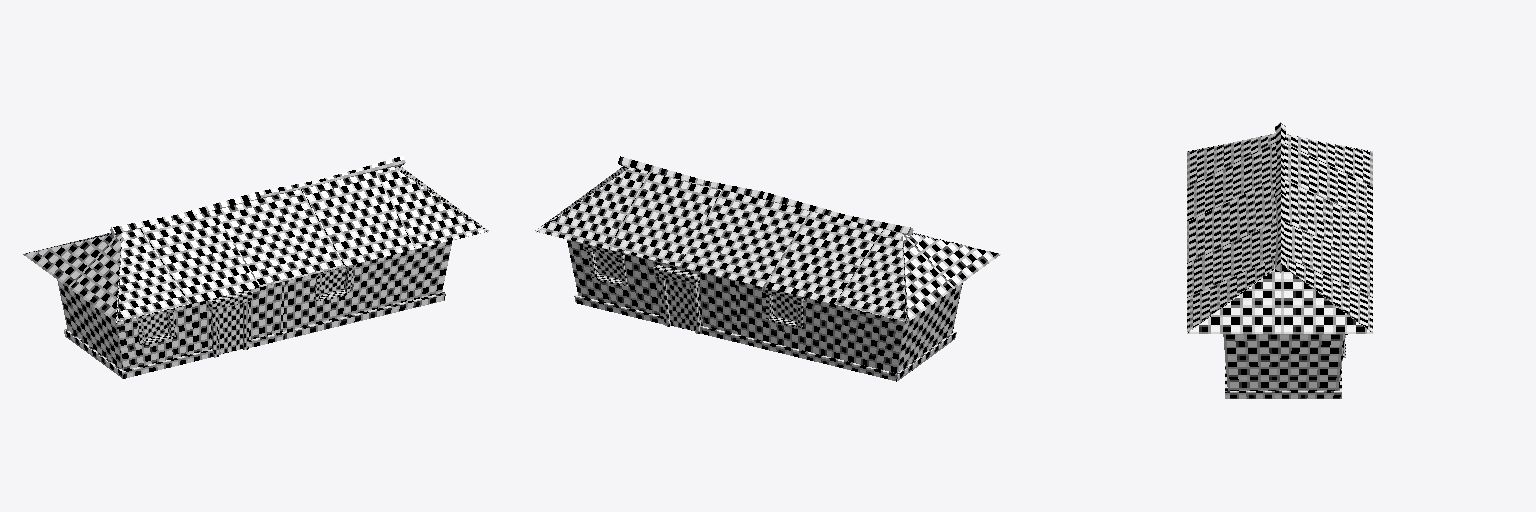
3 renders of one model, left to right at view 1: azimuth 30°, elevation 25°; view 2: azimuth 150°, elevation 25°; view 3: azimuth 270°, elevation 25°, orthographic.
Visible parts, largest first — view 1: Casa_03; view 2: Casa_03; view 3: Casa_03.
Boxes of the visible parts, <box> form: Casa_03: <box>23,156,488,378</box>; Casa_03: <box>535,156,1000,381</box>; Casa_03: <box>1187,122,1372,398</box>.
Size of the model in its own units: 185 by 60.71 by 80.02.
Materials: 1 (1 with a texture image).